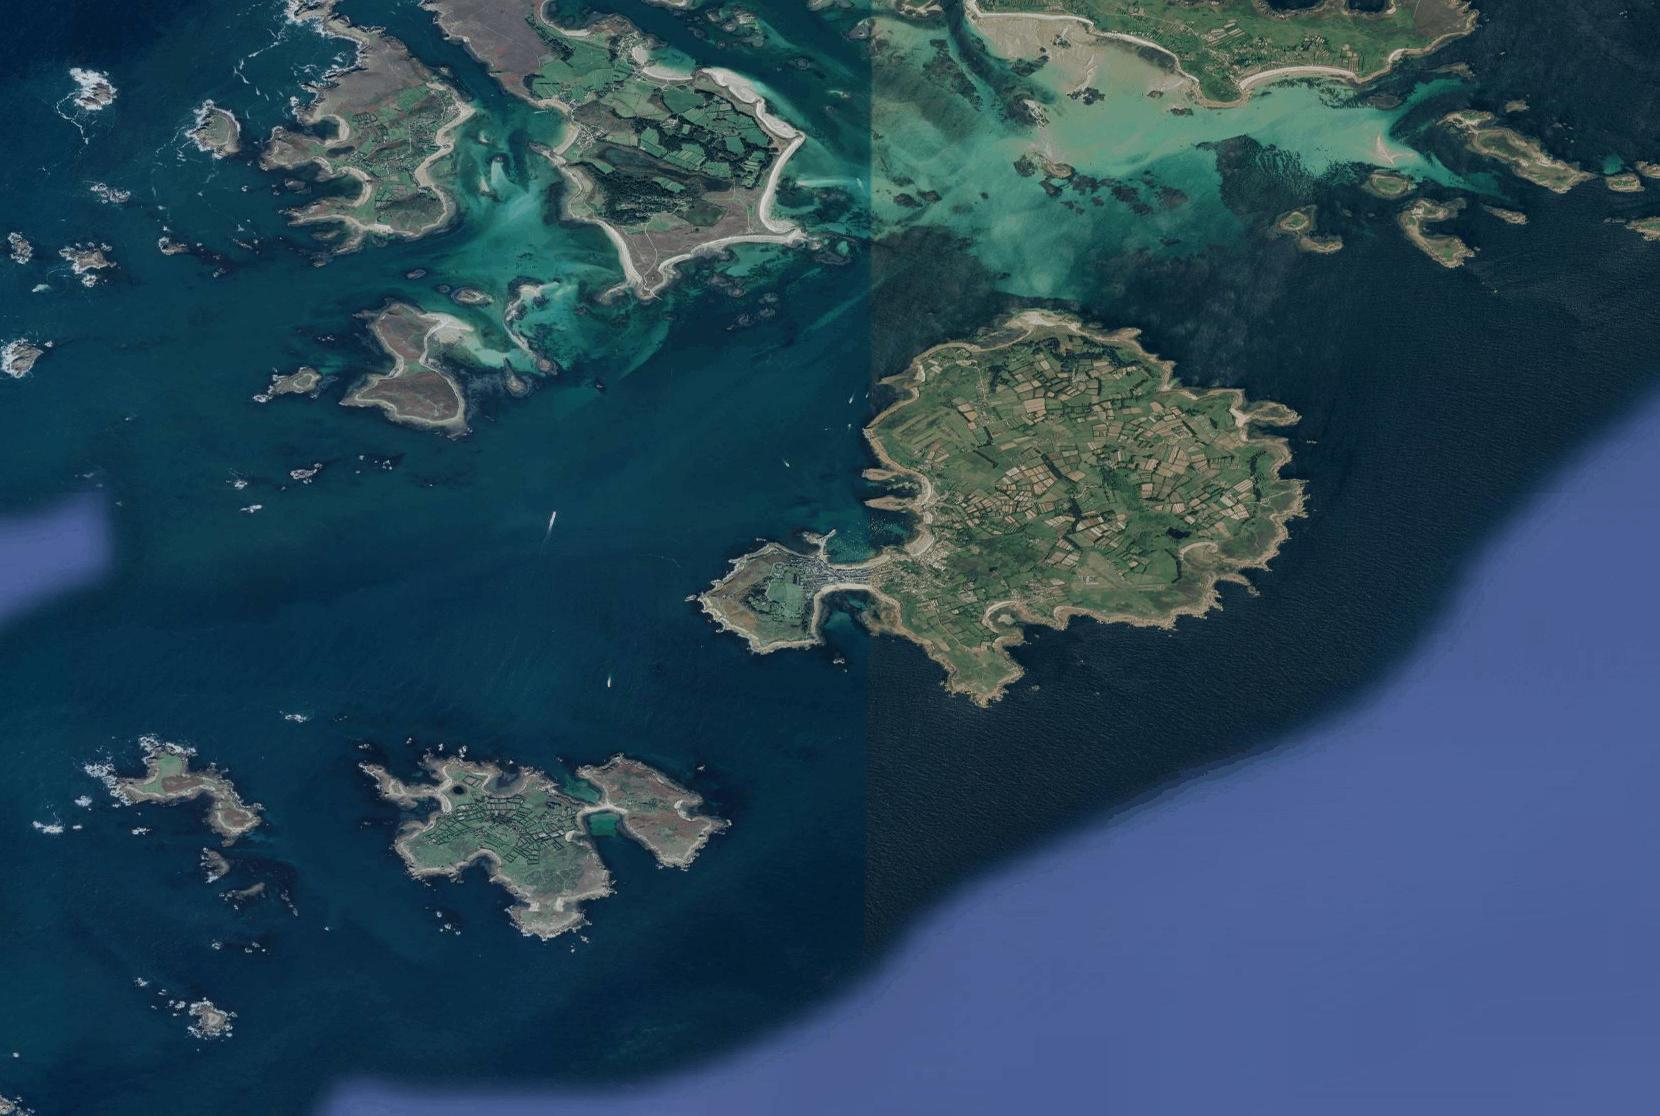harbor: (799, 522, 838, 559)
